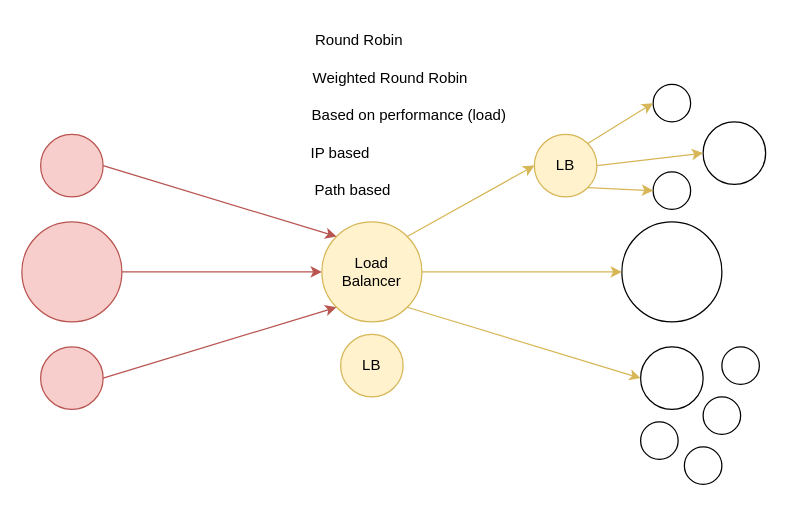
Image size: 788x506. Some labels were removed from this diagram. The shapes that lost their labels are listed below. From the top down, each one's centre as x and y in pixels, then its label:
At [71,271]: "Client".
At [671,271]: "Server".
